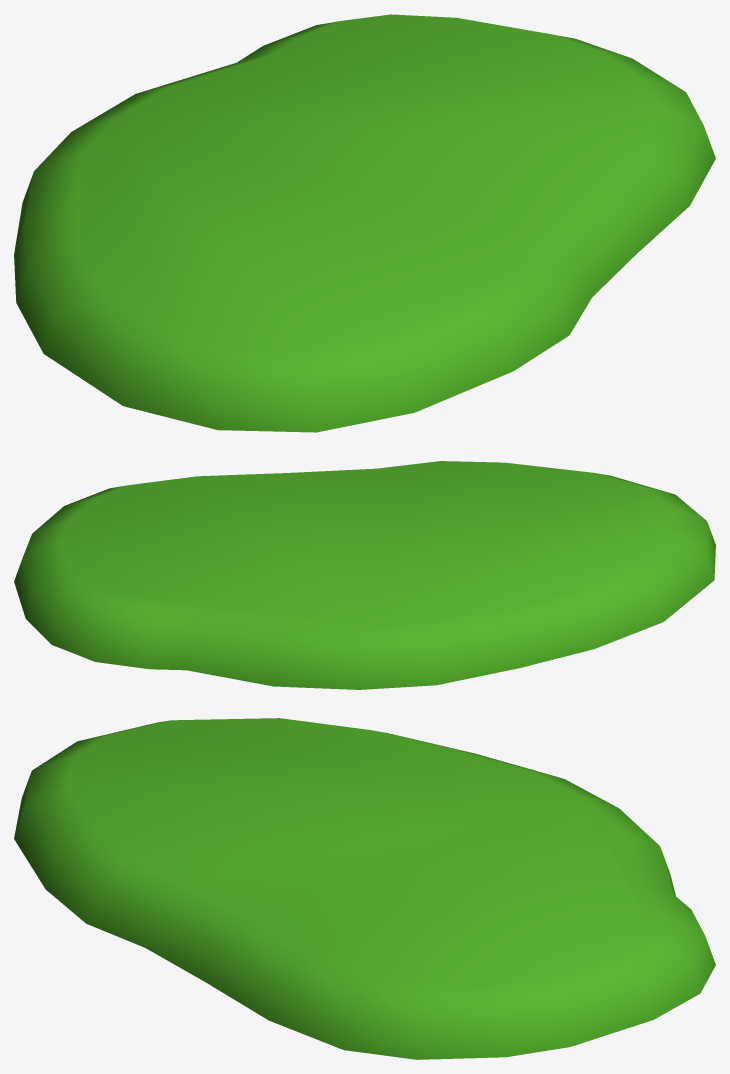
Rendered from GrassPlane_1_C.fbx.
3 views of the same model, one above another, from view 1: azimuth 30°, elevation 25°; view 2: azimuth 150°, elevation 25°; view 3: azimuth 270°, elevation 25° (orthographic). The views are drawn at different scales.
Visible parts, largest first — view 1: GrassPlane_1_C; view 2: GrassPlane_1_C; view 3: GrassPlane_1_C.
Boxes of the visible parts, bbox=[...] form: GrassPlane_1_C: bbox=[14, 14, 715, 432]; GrassPlane_1_C: bbox=[14, 461, 715, 689]; GrassPlane_1_C: bbox=[14, 718, 715, 1059].
Bounding box in the file's own units: 52.41 × 3.81 × 49.26.
